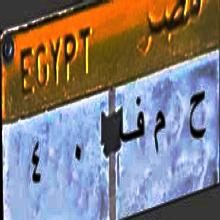0: (72, 138, 86, 170)
4: (27, 137, 44, 187)
7aa: (184, 79, 207, 150)
faa: (118, 90, 145, 150)
meem: (149, 104, 167, 160)
